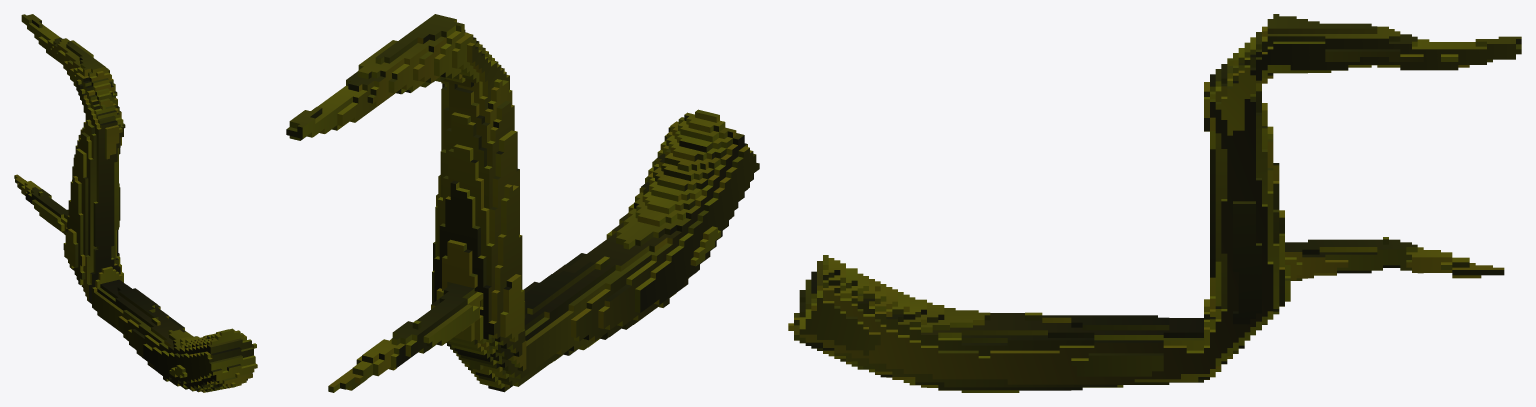
The model's file is Leaf fbx.fbx.
The picture shows the model from 3 angles, left to right: view 1: azimuth 30°, elevation 25°; view 2: azimuth 150°, elevation 25°; view 3: azimuth 270°, elevation 25°; orthographic projection. The views are drawn at different scales.
Parts seen in each view (by area): view 1: tree.005; view 2: tree.005; view 3: tree.005.
Boxes of the visible parts, x1=… form: tree.005: x1=14, y1=14, x2=257, y2=392; tree.005: x1=286, y1=14, x2=759, y2=392; tree.005: x1=788, y1=14, x2=1521, y2=392.
Bounding box in the file's own units: 96.17 × 402 × 718.
